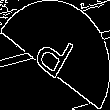P_SW: (31, 24, 79, 86)
